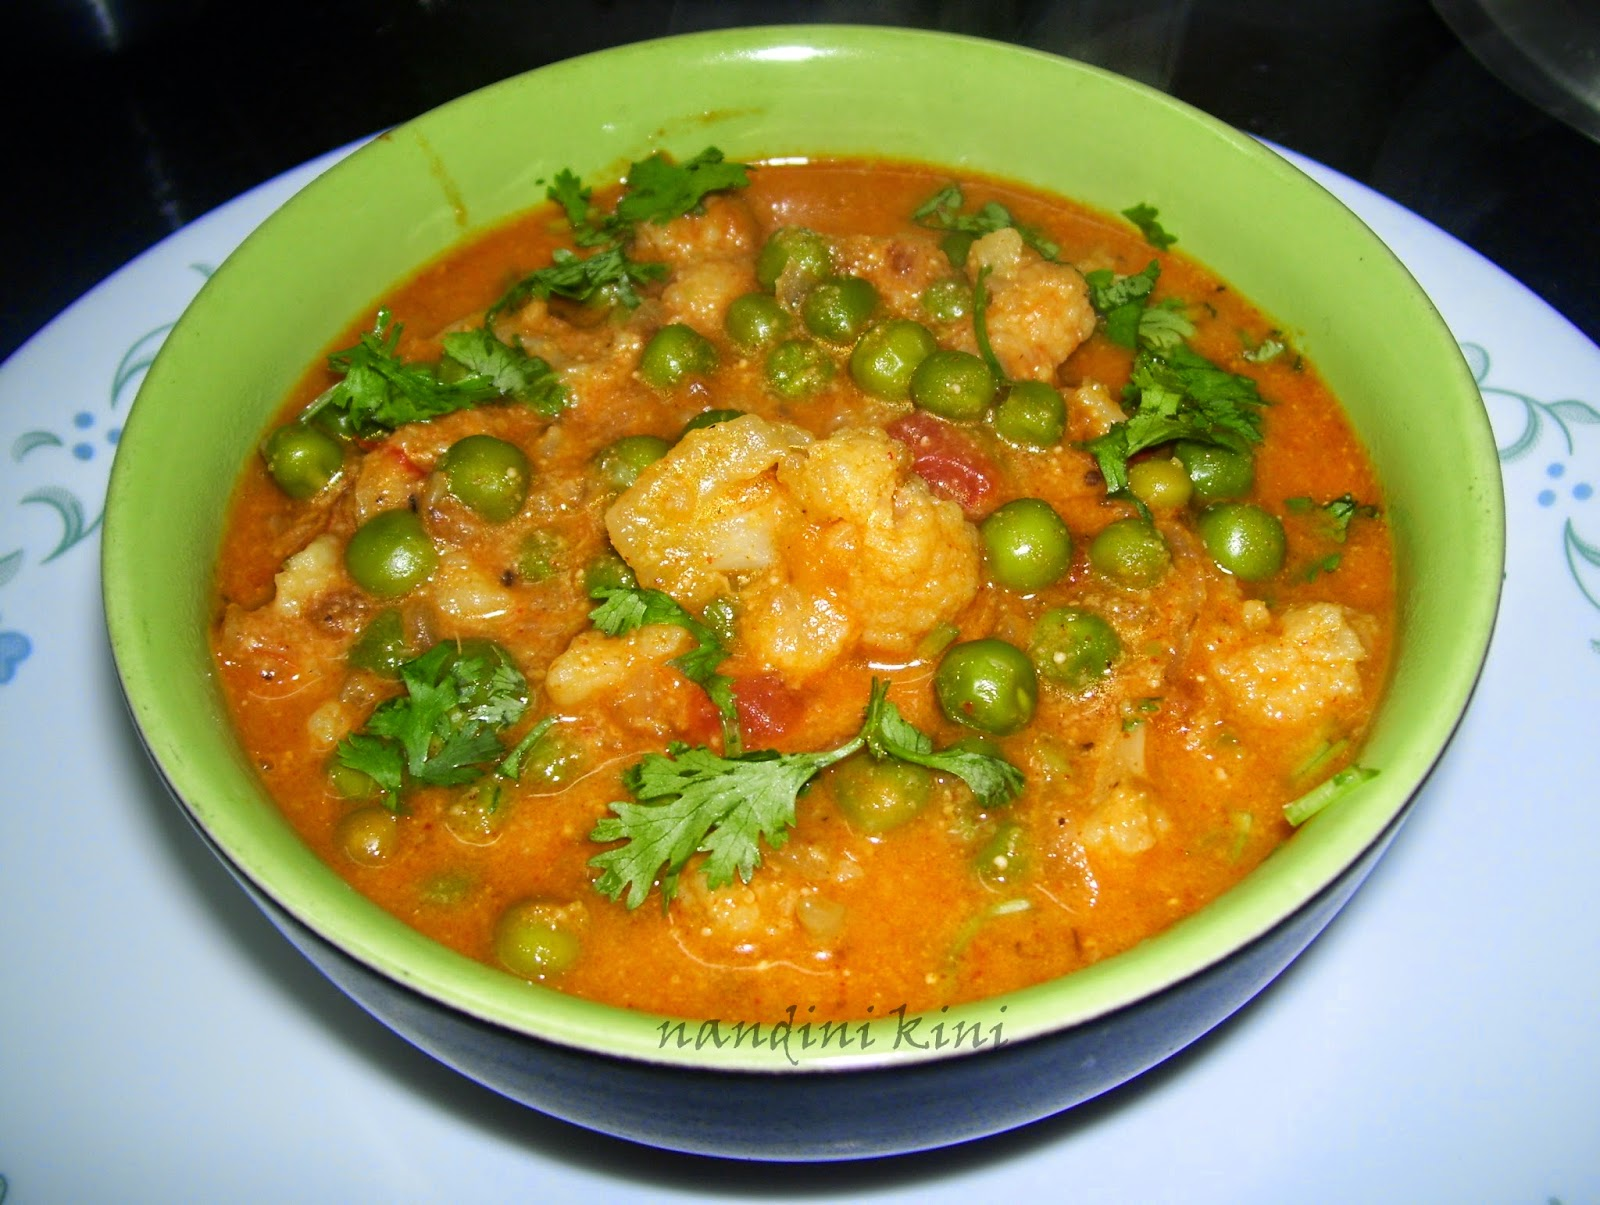boiled peas: (280, 410, 435, 573)
